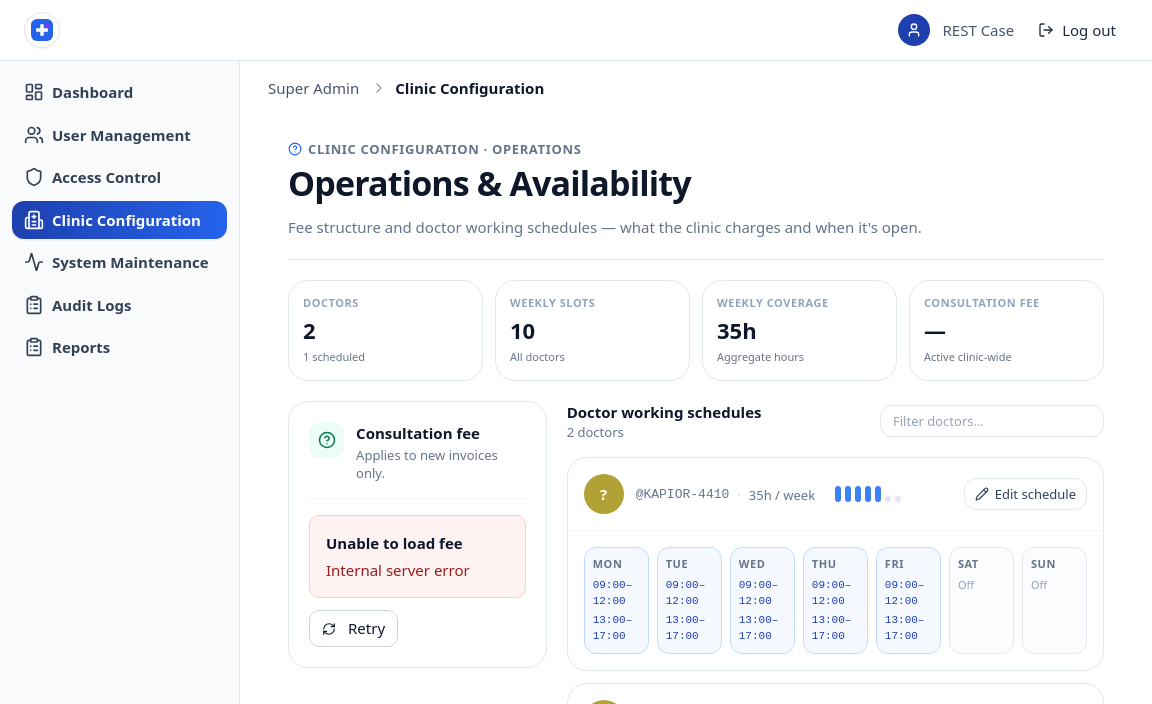
Test: super-admin clinic configuration — REST cases › surfaces a fee load failure and retries it
The width and height of the screenshot is (1152, 704).
Expected: the heading "Unable to load fee" is shown, 326,534 -> 463,554
Expected: the text "Internal server error" is shown, 326,560 -> 470,580
Click the button "Retry" at {"x": 354, "y": 629}, box 309,610 -> 398,647
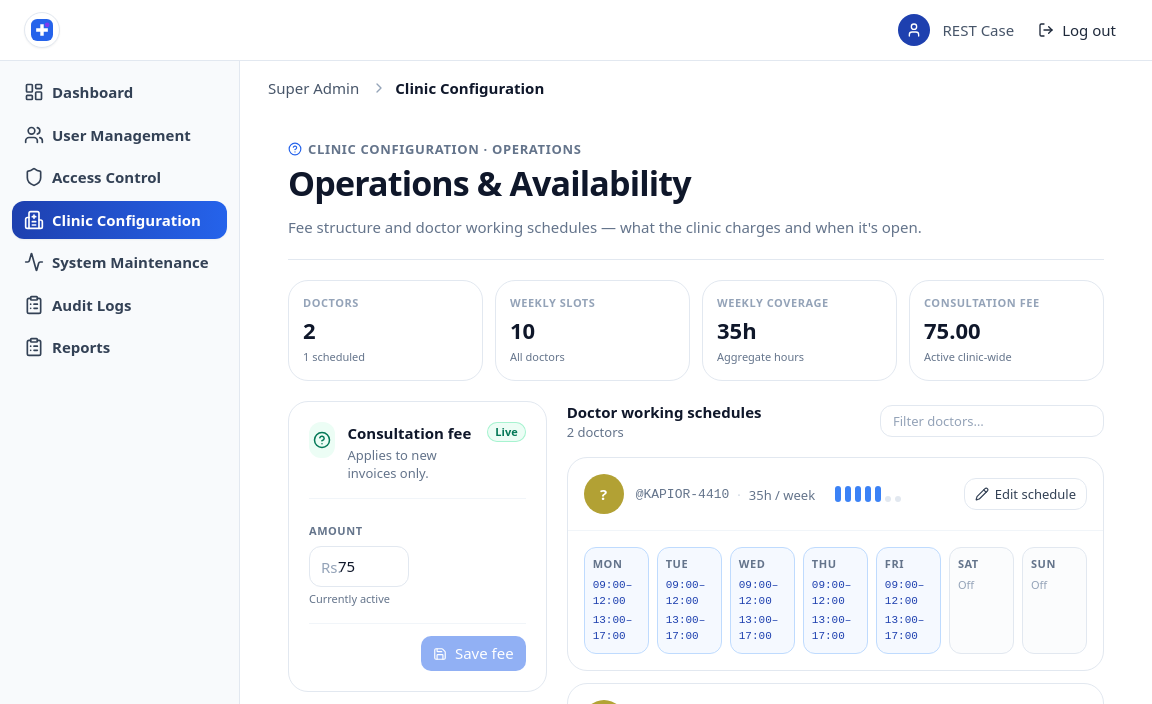
Expected: the number field labelled "Amount" holds "75", 309,546 -> 409,587
